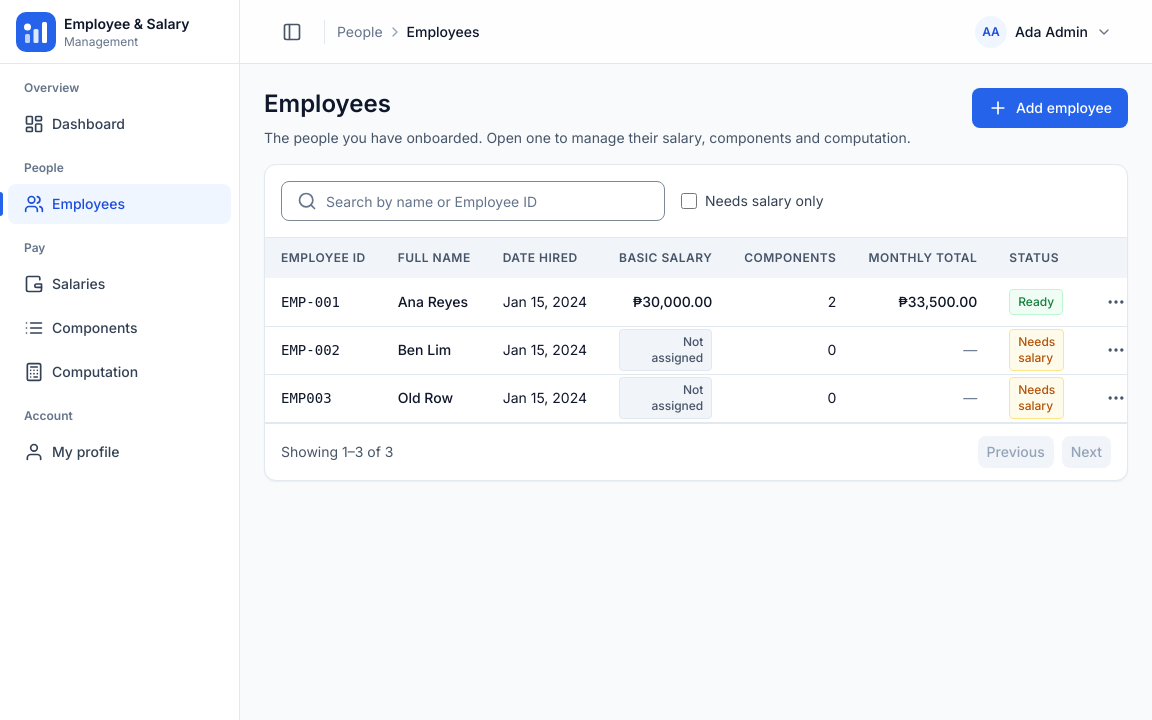
Test: Employees table › the actions menu › opens the edit dialog, and a pre-rule Employee ID can still be edited
The width and height of the screenshot is (1152, 720).
Expected: the table named "Employees" is shown, [265, 238, 1127, 422]
Click the button named "Actions for Old Row" at (1116, 398), box [1096, 378, 1136, 418]
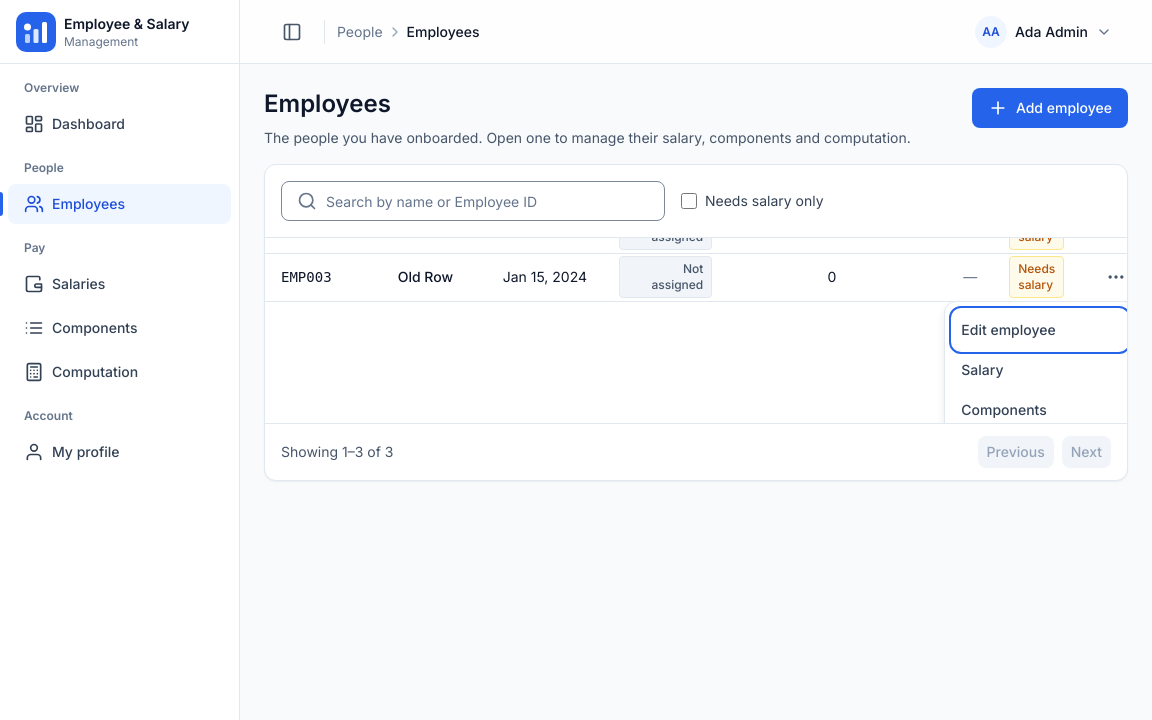
Click the menu item "Edit employee" at (1040, 330), box [953, 310, 1127, 350]
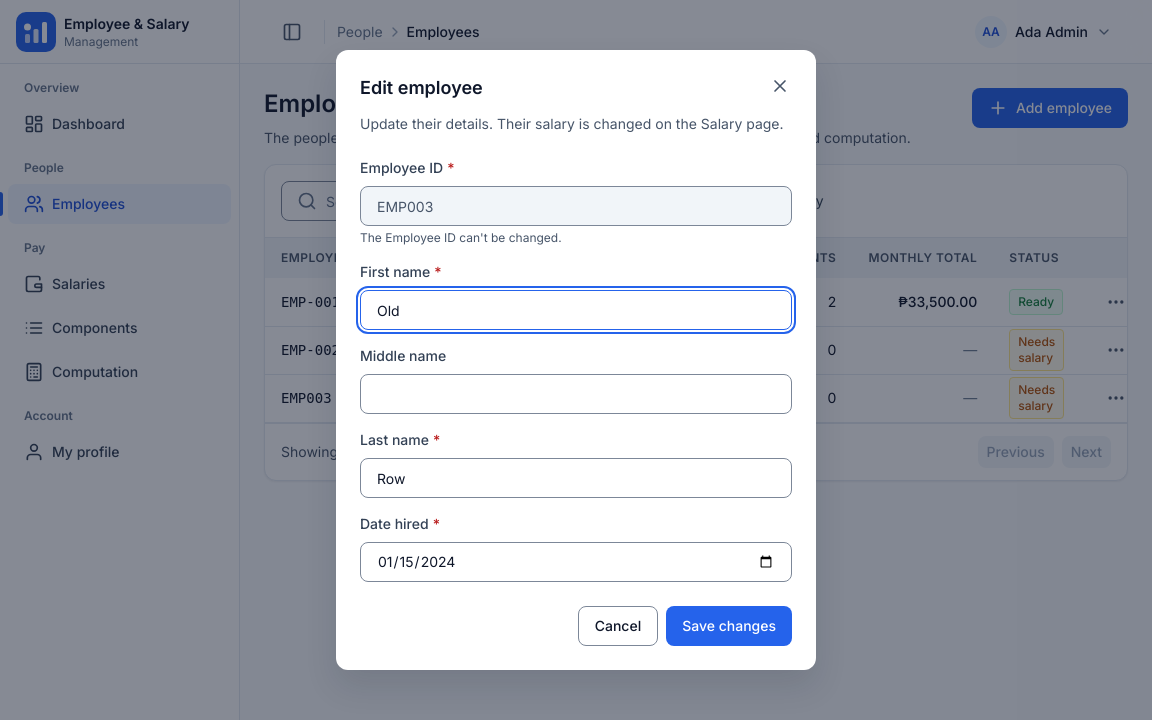
Expected: the field labelled "Employee ID*" holds "EMP003", [360, 186, 792, 226]
Replace the text in the field labelled "First name*" with "Older" at (576, 310), box [360, 290, 792, 330]
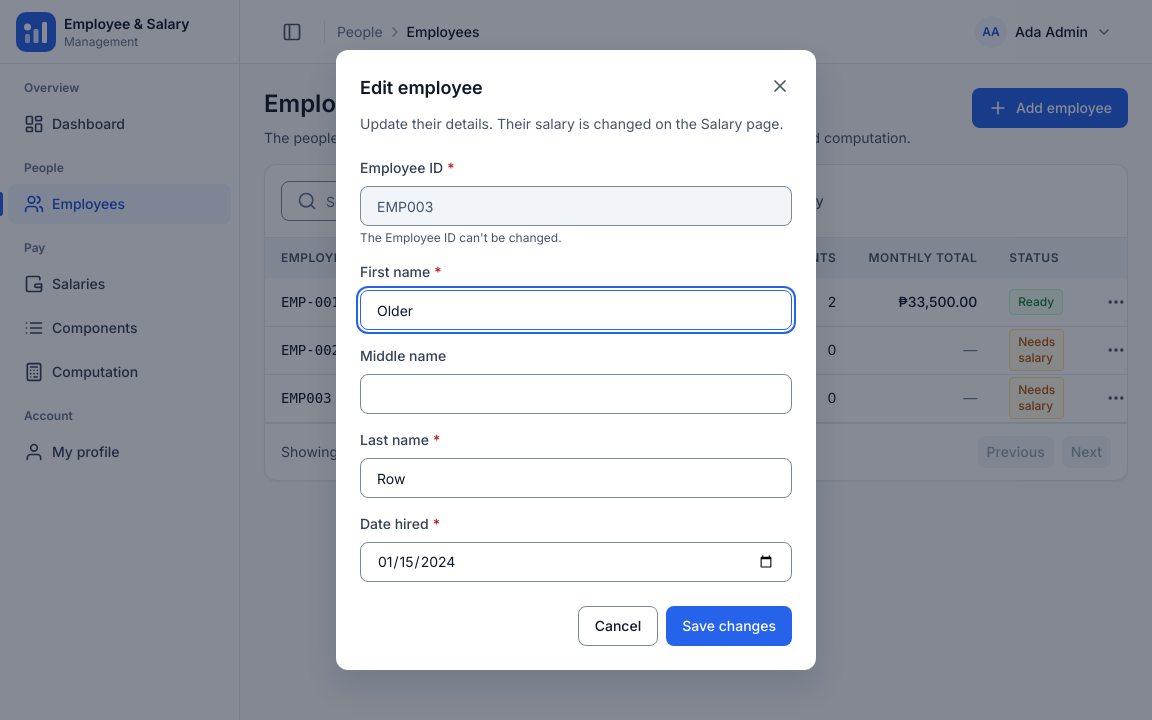
Click the button "Save changes" at (729, 626), box [666, 606, 792, 646]
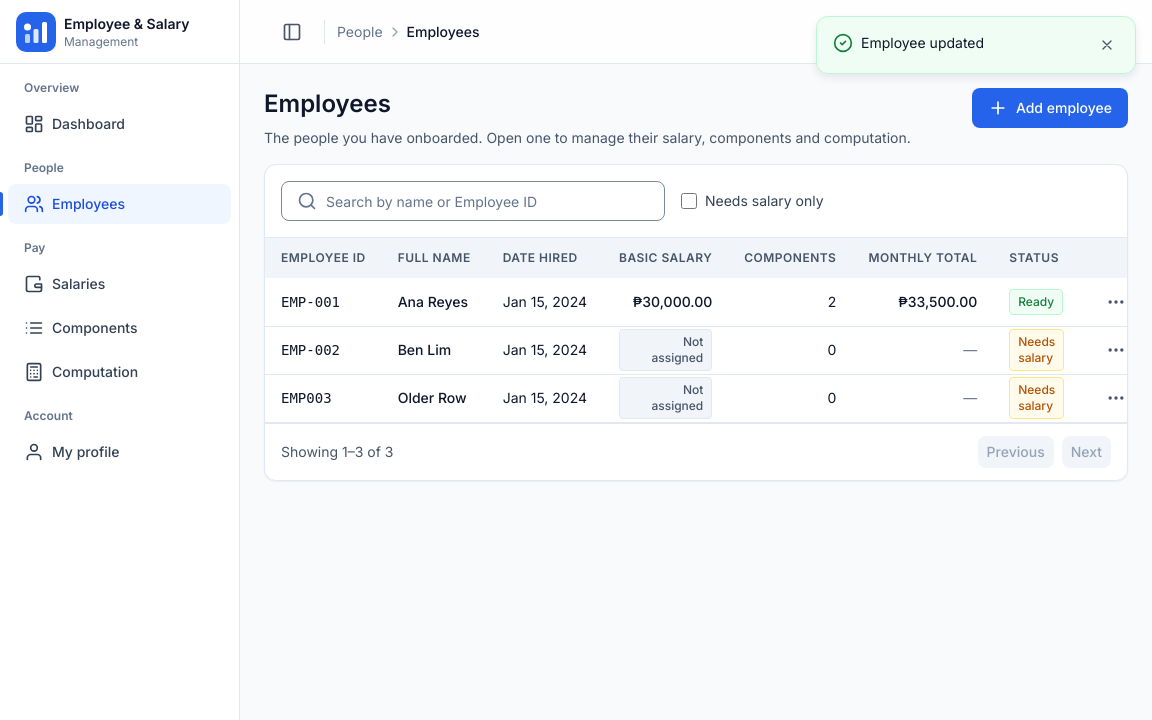
Expected: the text "Employee updated" is shown, [861, 34, 984, 51]
